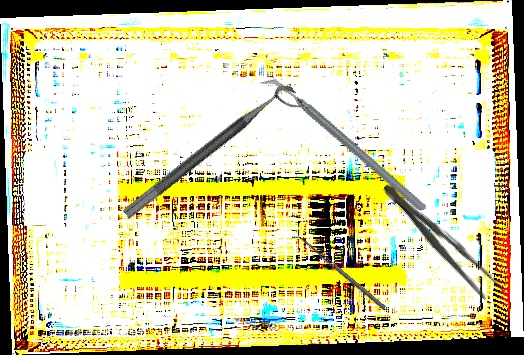Chopper: (259, 39, 428, 250)
Dressing Forceps: (375, 177, 511, 310)
Fixation Ring: (121, 80, 306, 234)
Spatula Surgical: (290, 231, 387, 314)
